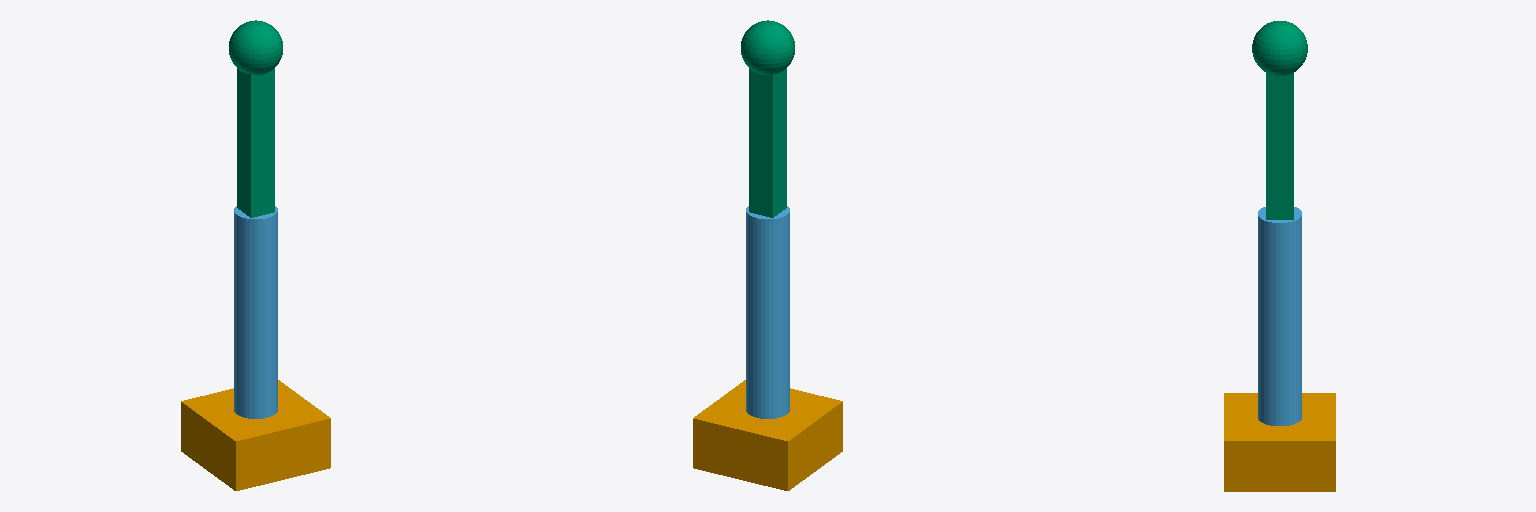
robot.urdf — prototype_arm:
<?xml version="1.0"?>
<robot name="prototype_arm">
  <link name="base_link">
    <visual><origin xyz="0 0 0.1"/><geometry><box size="0.4 0.4 0.2"/></geometry></visual>
  </link>
  <link name="upper_arm">
    <visual><origin xyz="0 0 0.4"/><geometry><cylinder radius="0.08" length="0.8"/></geometry></visual>
  </link>
  <joint name="shoulder" type="continuous">
    <parent link="base_link"/><child link="upper_arm"/><origin xyz="0 0 0.2"/><axis xyz="0 1 0"/>
  </joint>
  <link name="forearm">
    <visual><origin xyz="0 0 0.3"/><geometry><box size="0.1 0.1 0.6"/></geometry></visual>
    <visual><origin xyz="0 0 0.65"/><geometry><sphere radius="0.1"/></geometry></visual>
  </link>
  <joint name="elbow" type="continuous">
    <parent link="upper_arm"/><child link="forearm"/><origin xyz="0 0 0.8"/><axis xyz="0 1 0"/>
  </joint>
</robot>

--- What the picture shows (computed from the rendered views, not written in the file) ---
3 views of the same robot in one strip: view 1: azimuth 30°, elevation 25°; view 2: azimuth 150°, elevation 25°; view 3: azimuth 270°, elevation 25° (orthographic).
Robot: prototype_arm — 3 links, 2 joints (2 continuous); root link base_link; default pose: every joint at zero.
Links seen in each view (by area): view 1: base_link, upper_arm, forearm; view 2: base_link, upper_arm, forearm; view 3: base_link, upper_arm, forearm.
Boxes of the visible links, <box> form: base_link: <box>181,380,330,490</box>; upper_arm: <box>234,206,277,418</box>; forearm: <box>229,20,282,217</box>; base_link: <box>693,380,842,490</box>; upper_arm: <box>746,206,789,418</box>; forearm: <box>741,20,794,217</box>; base_link: <box>1224,393,1335,491</box>; upper_arm: <box>1258,207,1301,425</box>; forearm: <box>1252,21,1307,219</box>.
Size in the robot's own frame: 0.4 by 0.4 by 1.75 metres.
Geometry: primitives only (box / cylinder / sphere), no mesh files.
